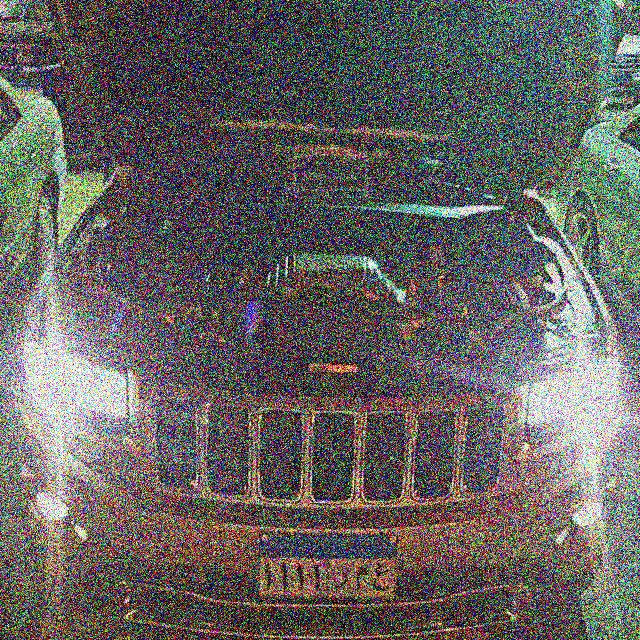License Plate: (252, 524, 401, 605)
